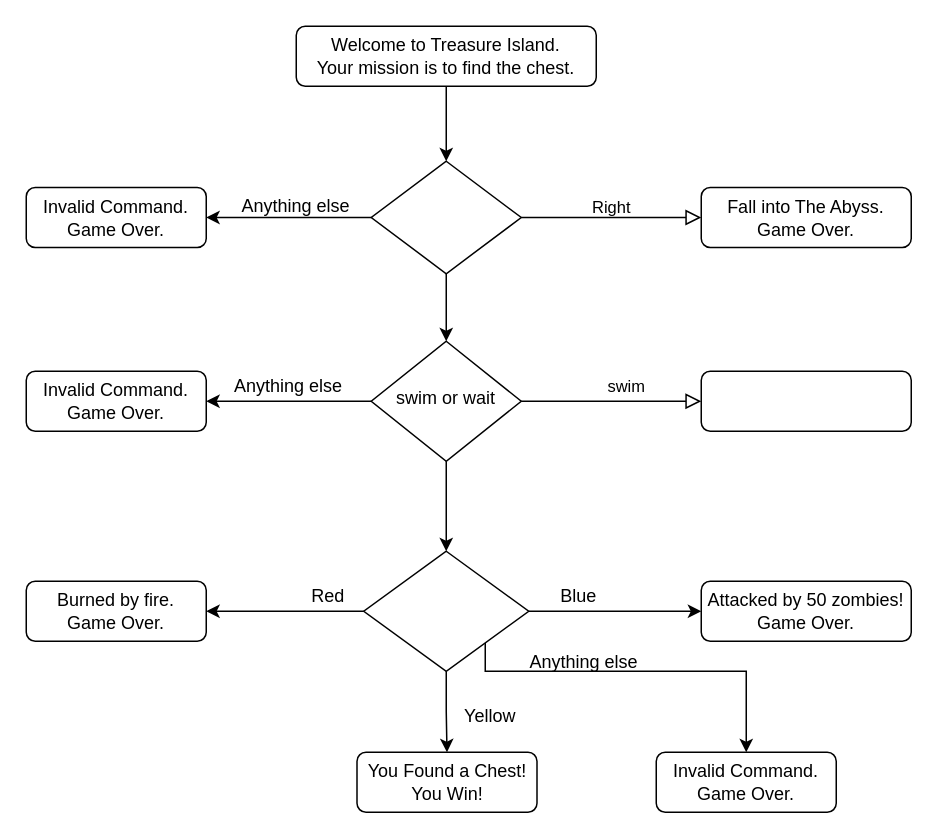
Some shapes in this 938 by 839 pixel diagram are drawn without their labels. Here are the shapes that lost their labels. From the top down, the centre of each, then its label:
At point (445, 217): "left or right?".
At point (805, 400): "You can't swim :( Game Over.".
At point (445, 610): "Which door?".
